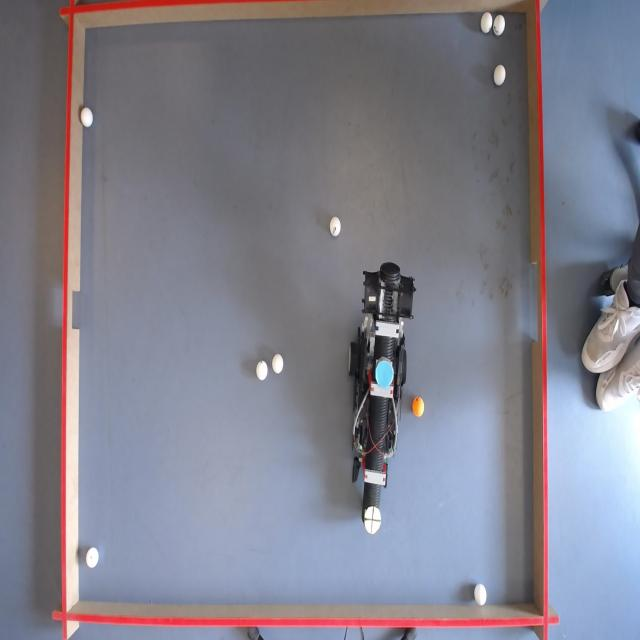orange: (412, 396, 424, 417)
robot: (348, 271, 417, 538)
robot-front: (363, 507, 381, 537)
robot-rear: (376, 358, 396, 387)
white: (476, 585, 489, 608), (493, 65, 507, 86), (88, 548, 101, 570), (493, 14, 506, 36), (480, 11, 492, 34), (255, 360, 268, 380), (80, 107, 93, 127), (328, 216, 341, 235), (274, 354, 286, 374)
